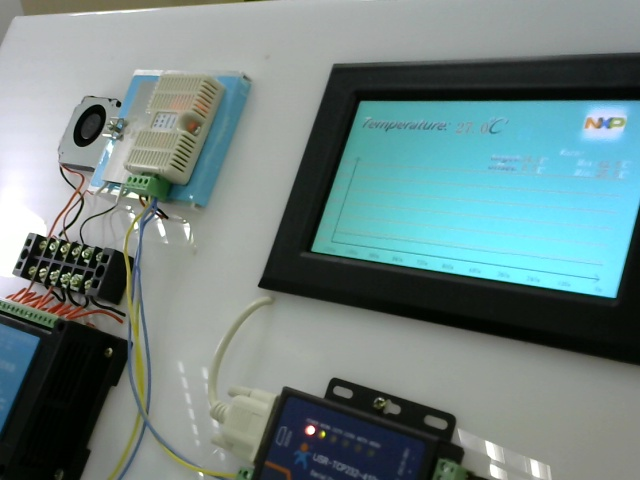termperature: (144, 74, 213, 190)
